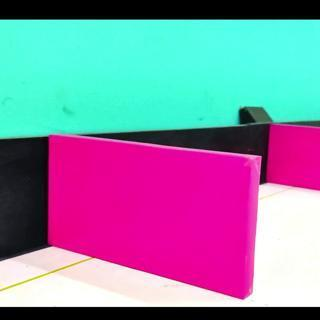xparking: (65, 158, 254, 288), (278, 130, 314, 190)
